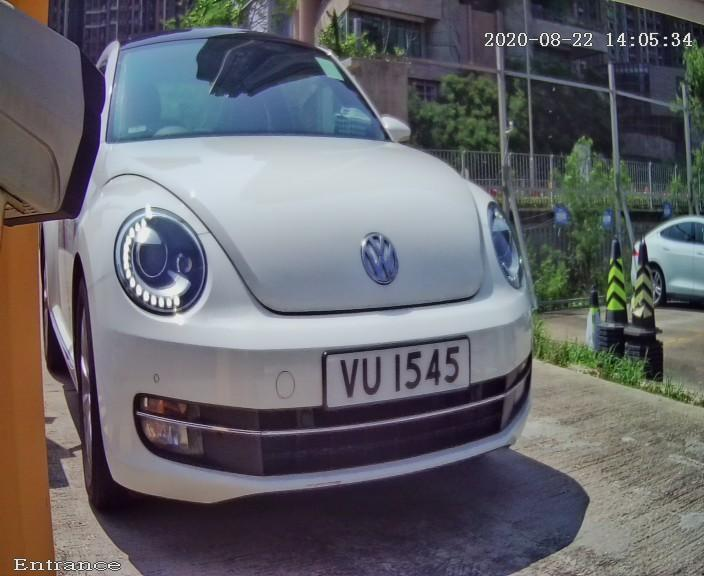Car: (1, 1, 585, 556)
License Plate: (302, 332, 485, 417)
